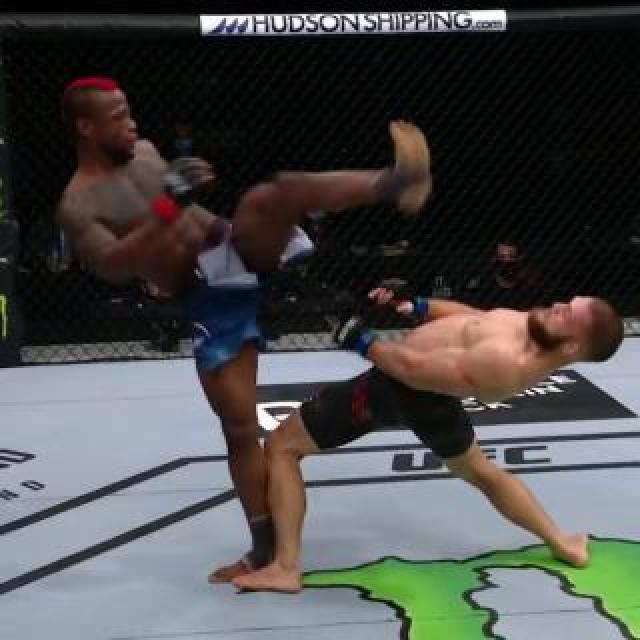fight: (47, 68, 625, 598)
